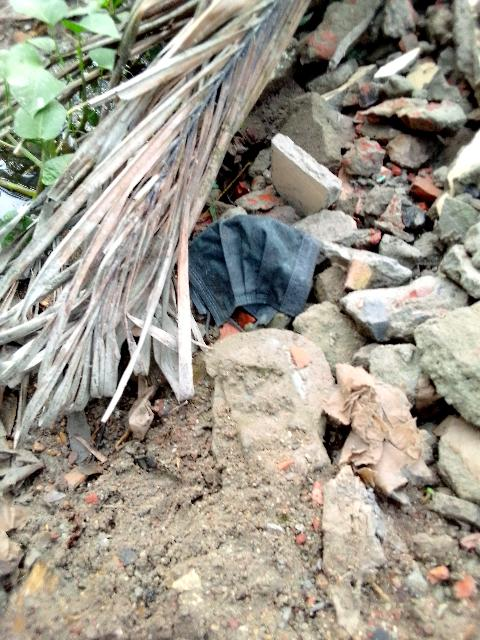mask: (199, 205, 329, 325)
